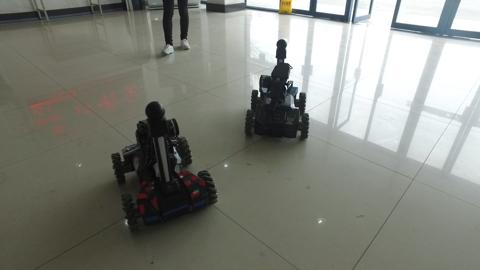chariot: (102, 96, 225, 241), (237, 37, 323, 145)
